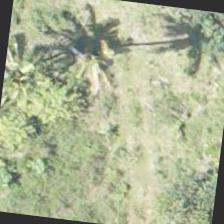Kelapa_Sawit: (0, 22, 65, 119)
